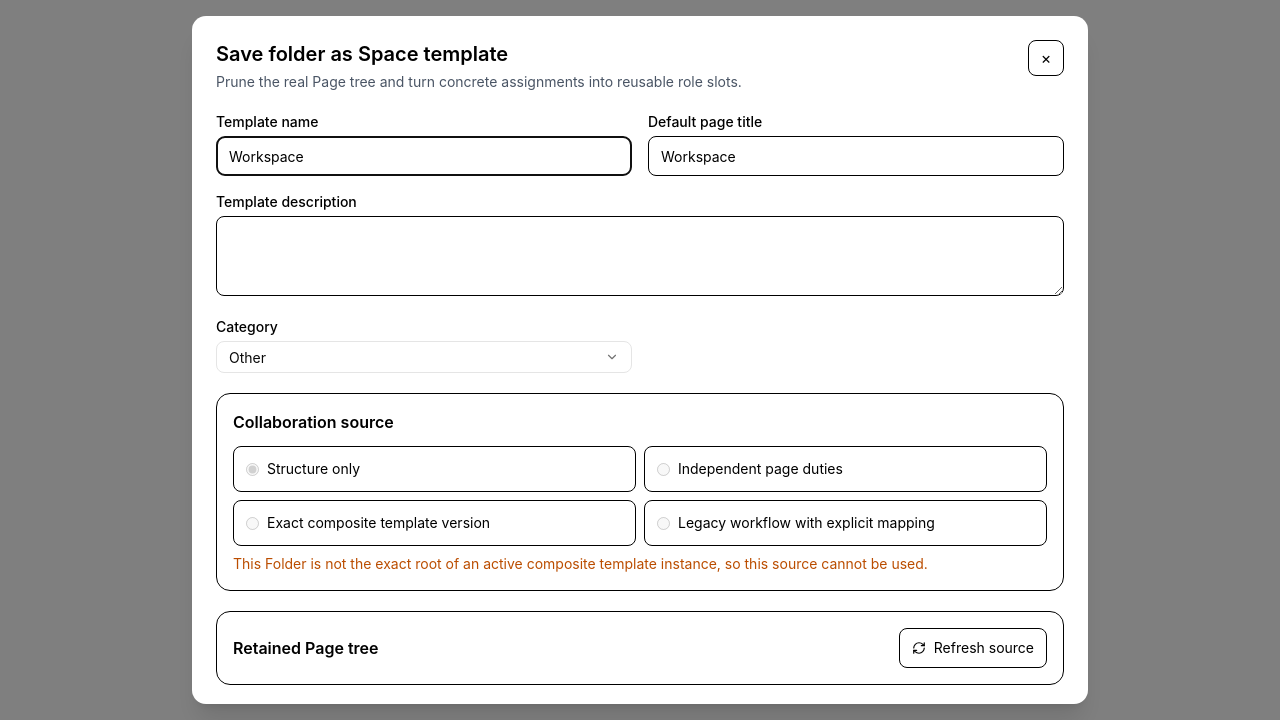
Test case: SaveFolderAsTemplateDialog › recovers an initially failed authoritative source tree through the explicit refresh action
Expected: the radio button labelled "Independent page duties" is disabled, [657, 462, 670, 476]
Click the button "Refresh source".
click(973, 648)  # box [899, 628, 1047, 668]
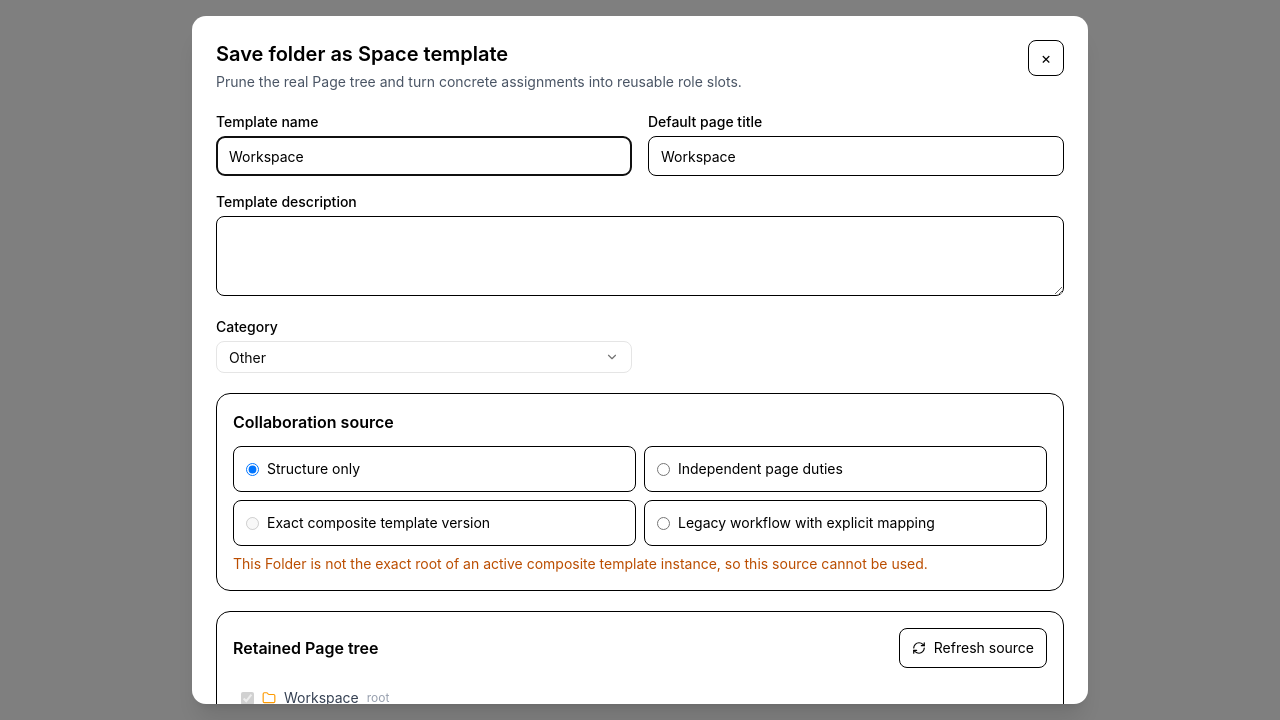
Result: the checkbox named "Include folder Workspace (root)" is shown at [241, 692, 254, 704]
Result: the radio button labelled "Independent page duties" is enabled at [657, 462, 670, 476]
